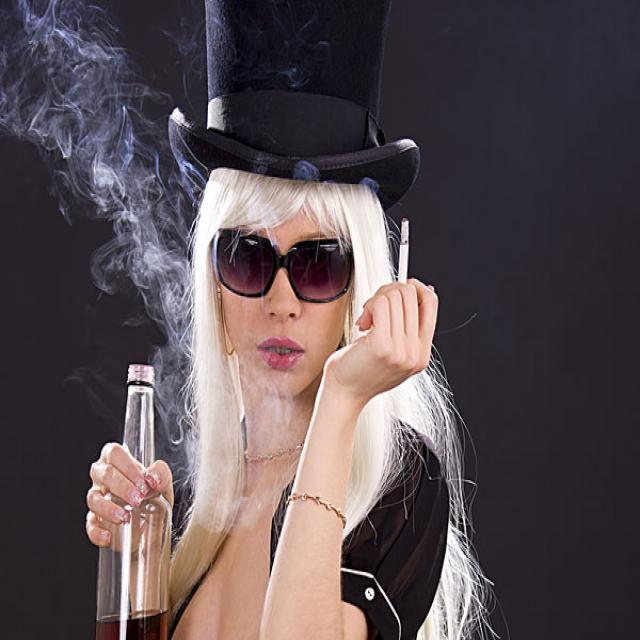smoking: (395, 216, 412, 285)
